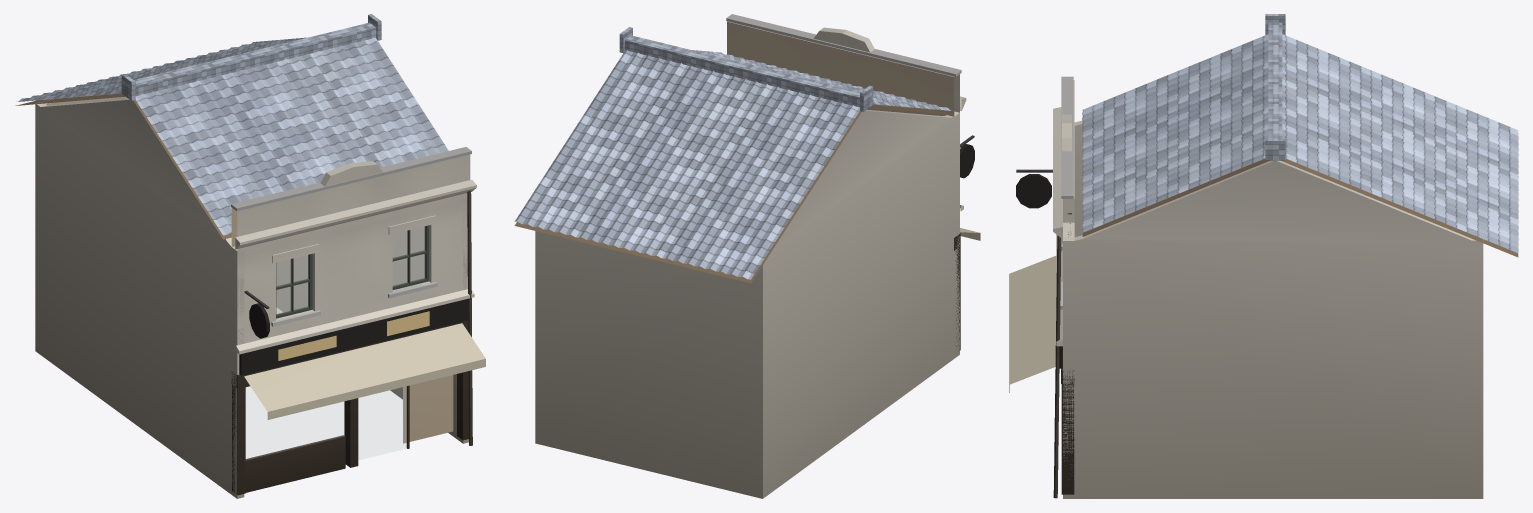
Rendered from exterior-lod1.glb.
3 views of the same model, side by side, from view 1: azimuth 30°, elevation 25°; view 2: azimuth 150°, elevation 25°; view 3: azimuth 270°, elevation 25° (orthographic). The views are drawn at different scales.
Visible parts, largest first — view 1: BldgA_LOD1_Exterior; view 2: BldgA_LOD1_Exterior; view 3: BldgA_LOD1_Exterior.
Boxes of the visible parts, left/top/right/bottom form: BldgA_LOD1_Exterior: left=15, top=14, right=485, bottom=498; BldgA_LOD1_Exterior: left=514, top=14, right=980, bottom=498; BldgA_LOD1_Exterior: left=1009, top=14, right=1518, bottom=498.
Bounding box in the file's own units: 6.44 × 8.56 × 10.92.
Materials: 14 (1 with a texture image).
